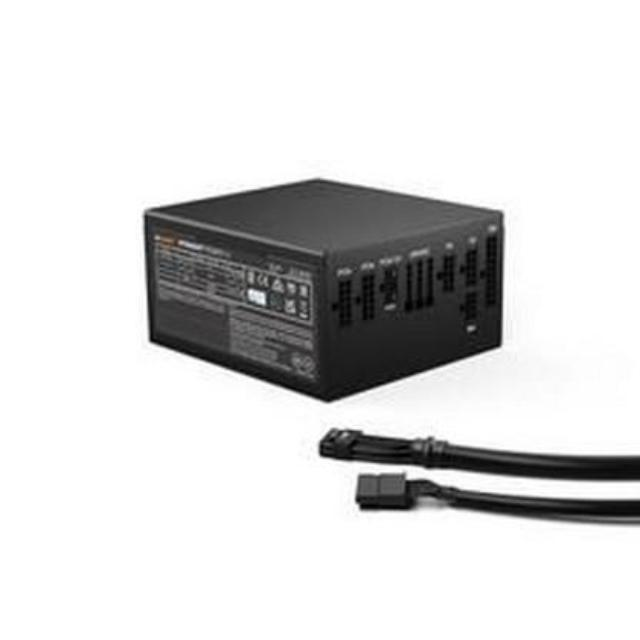PSU: (135, 170, 516, 408)
